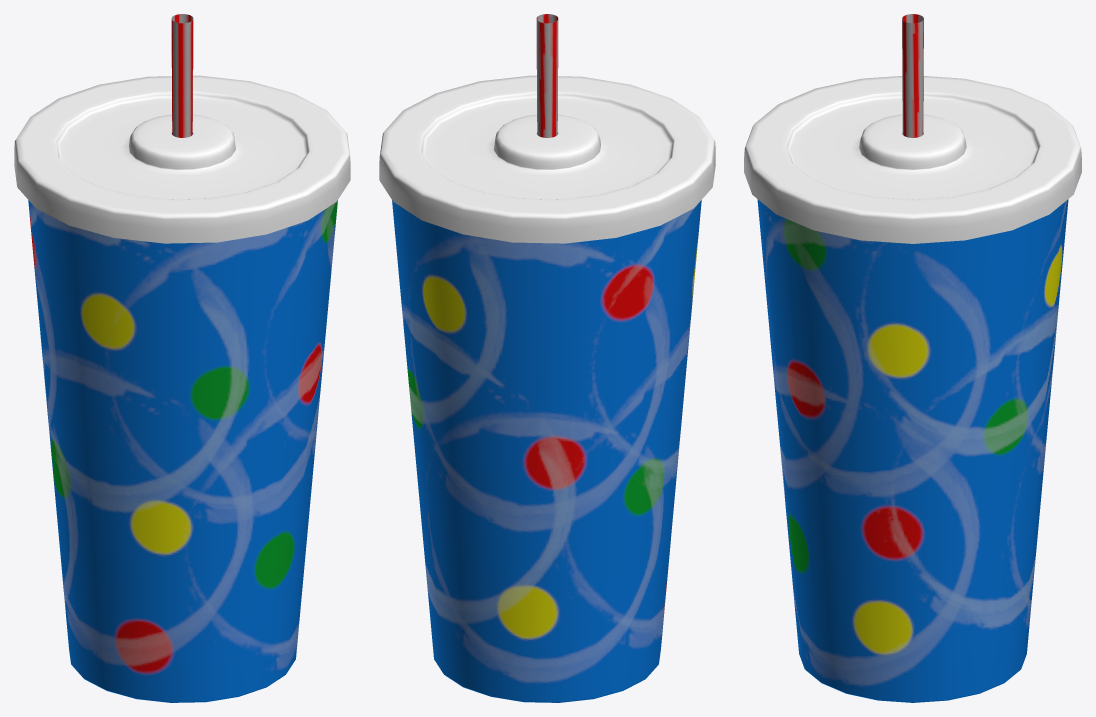
File: Soda_Cup_FBX.fbx
3 renders of one model, left to right at view 1: azimuth 30°, elevation 25°; view 2: azimuth 150°, elevation 25°; view 3: azimuth 270°, elevation 25°, orthographic.
Parts seen in each view (by area): view 1: Cup, Lid1, Straw; view 2: Cup, Lid1, Straw; view 3: Cup, Lid1, Straw.
Part boxes in pixels (box(x1,y1,x2,y2)): Cup: box(28, 132, 337, 702); Lid1: box(14, 75, 350, 243); Straw: box(171, 14, 193, 137); Cup: box(392, 132, 701, 702); Lid1: box(379, 75, 715, 243); Straw: box(536, 14, 558, 137); Cup: box(757, 133, 1068, 702); Lid1: box(744, 76, 1081, 243); Straw: box(902, 14, 923, 137).
Size of the model in its own units: 17.86 by 37.08 by 17.83.
